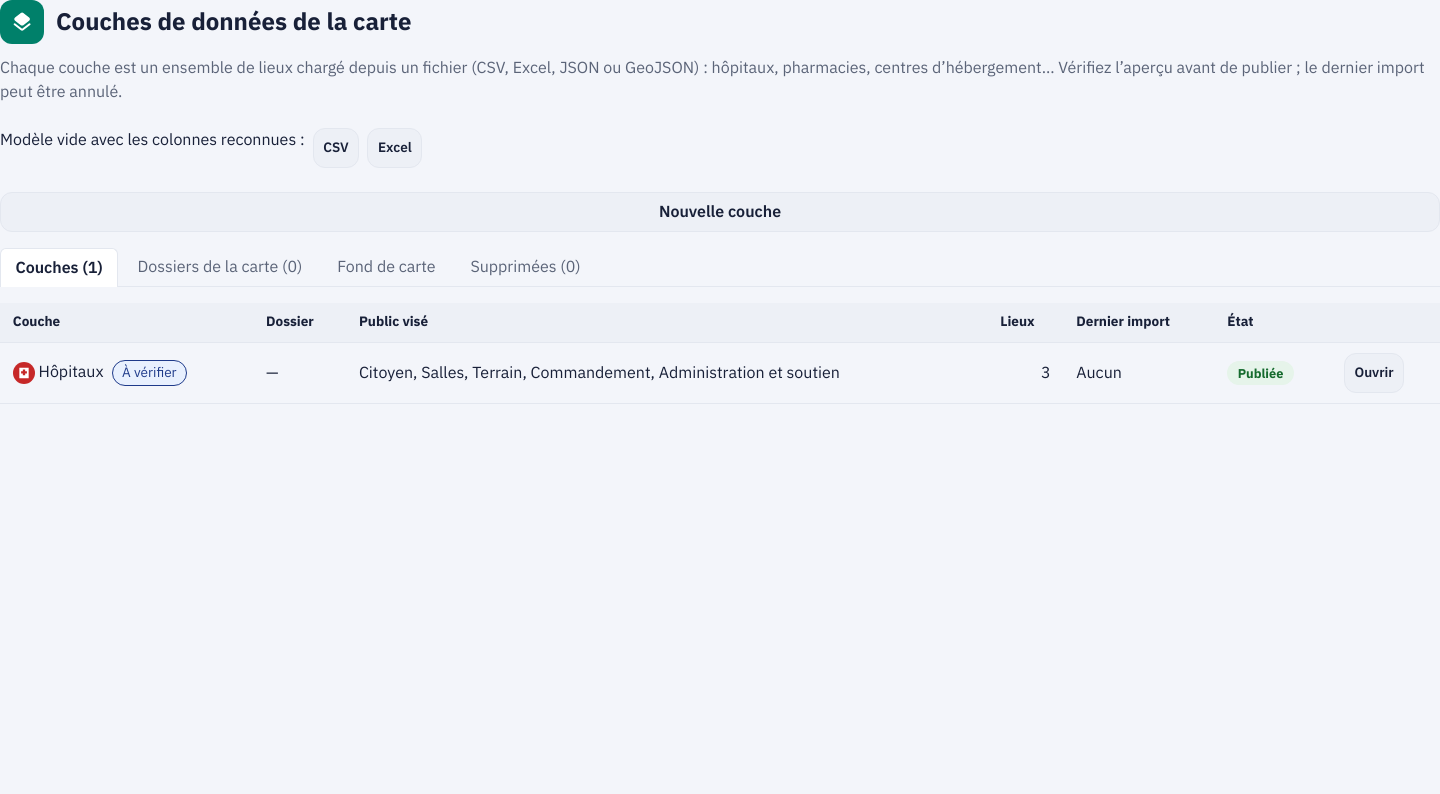
Scenario: LayersPage › a sensitive layer: no audience to choose, the minister alone
Step 1. Click the button "Ouvrir" → click(1374, 373), box [1344,353,1404,393]
(page scrolled)
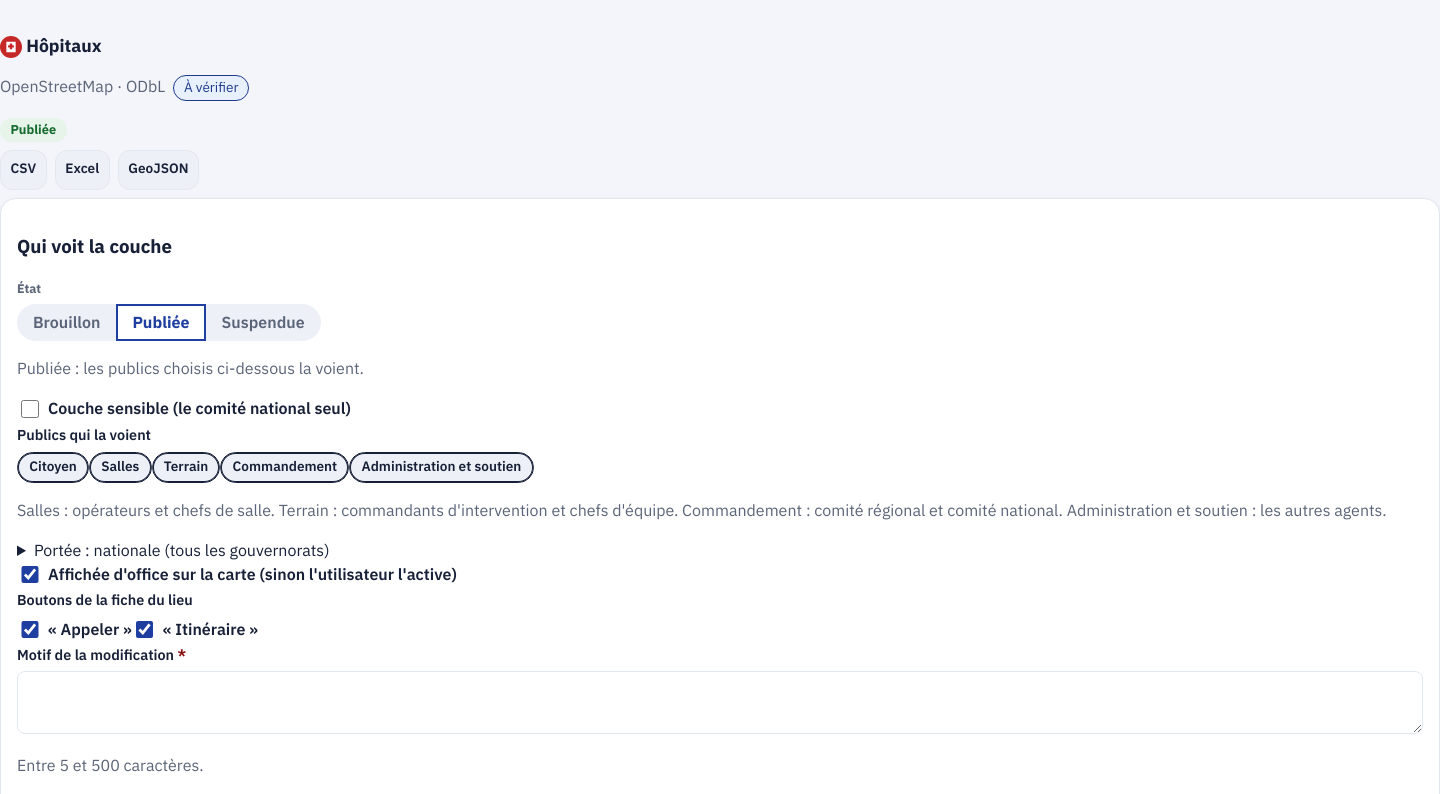
Step 2. Click the checkbox labelled "Couche sensible (le comité national seul)" → click(30, 409), box [21,400,39,418]
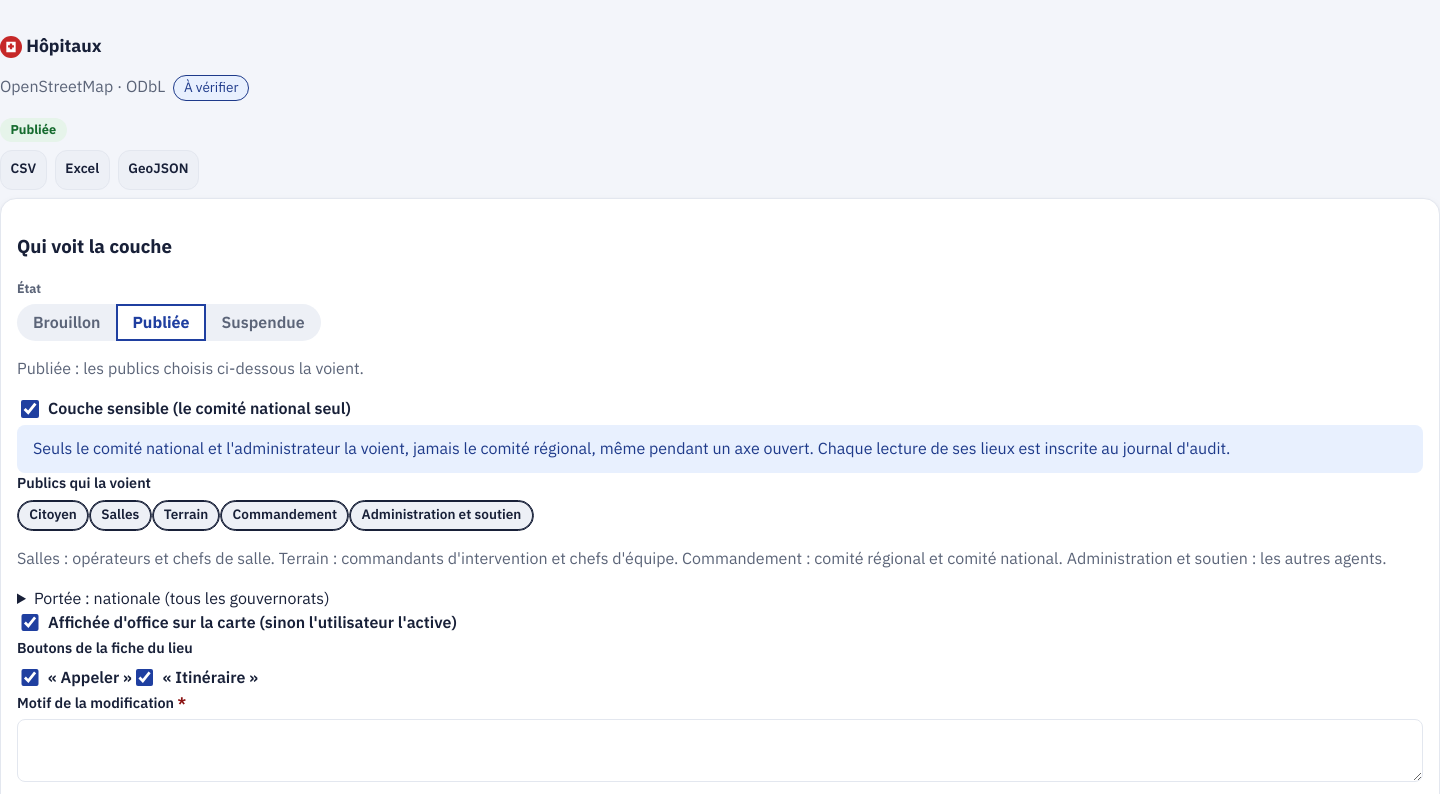
Expected: the checkbox labelled "Citoyen" is disabled, [17,502,89,526]
Expected: the text "jamais le comité régional" is shown, [33,437,1230,461]
